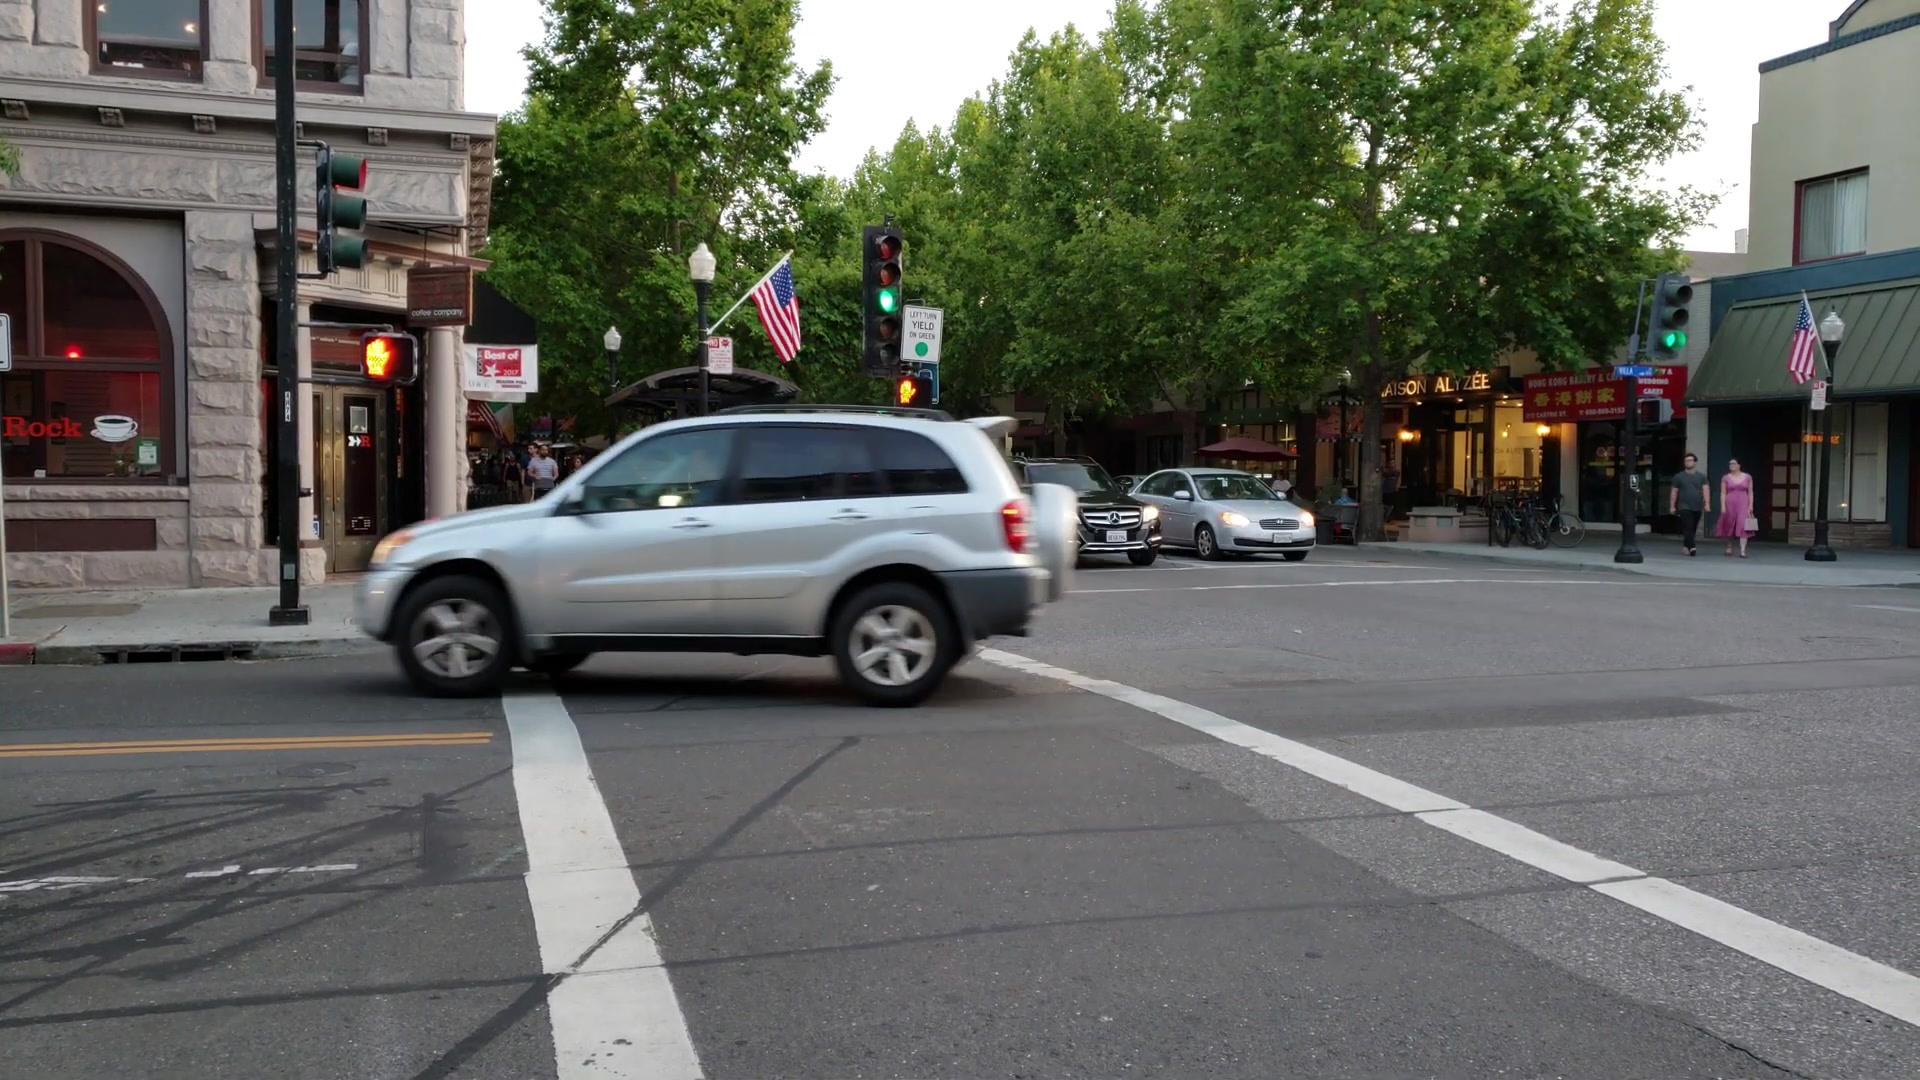vehicle: (363, 401, 1077, 709), (1131, 465, 1317, 564)
